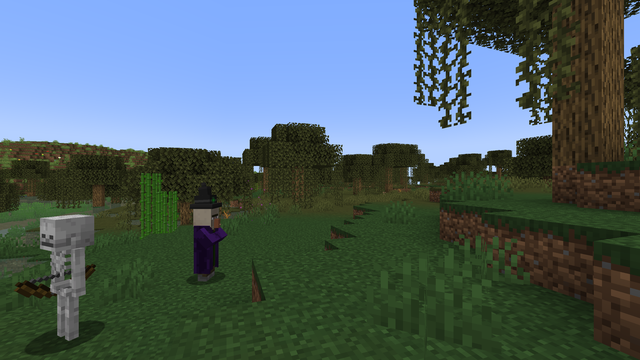sorcieres: (192, 203, 218, 283)
squelettes: (31, 214, 97, 350)
